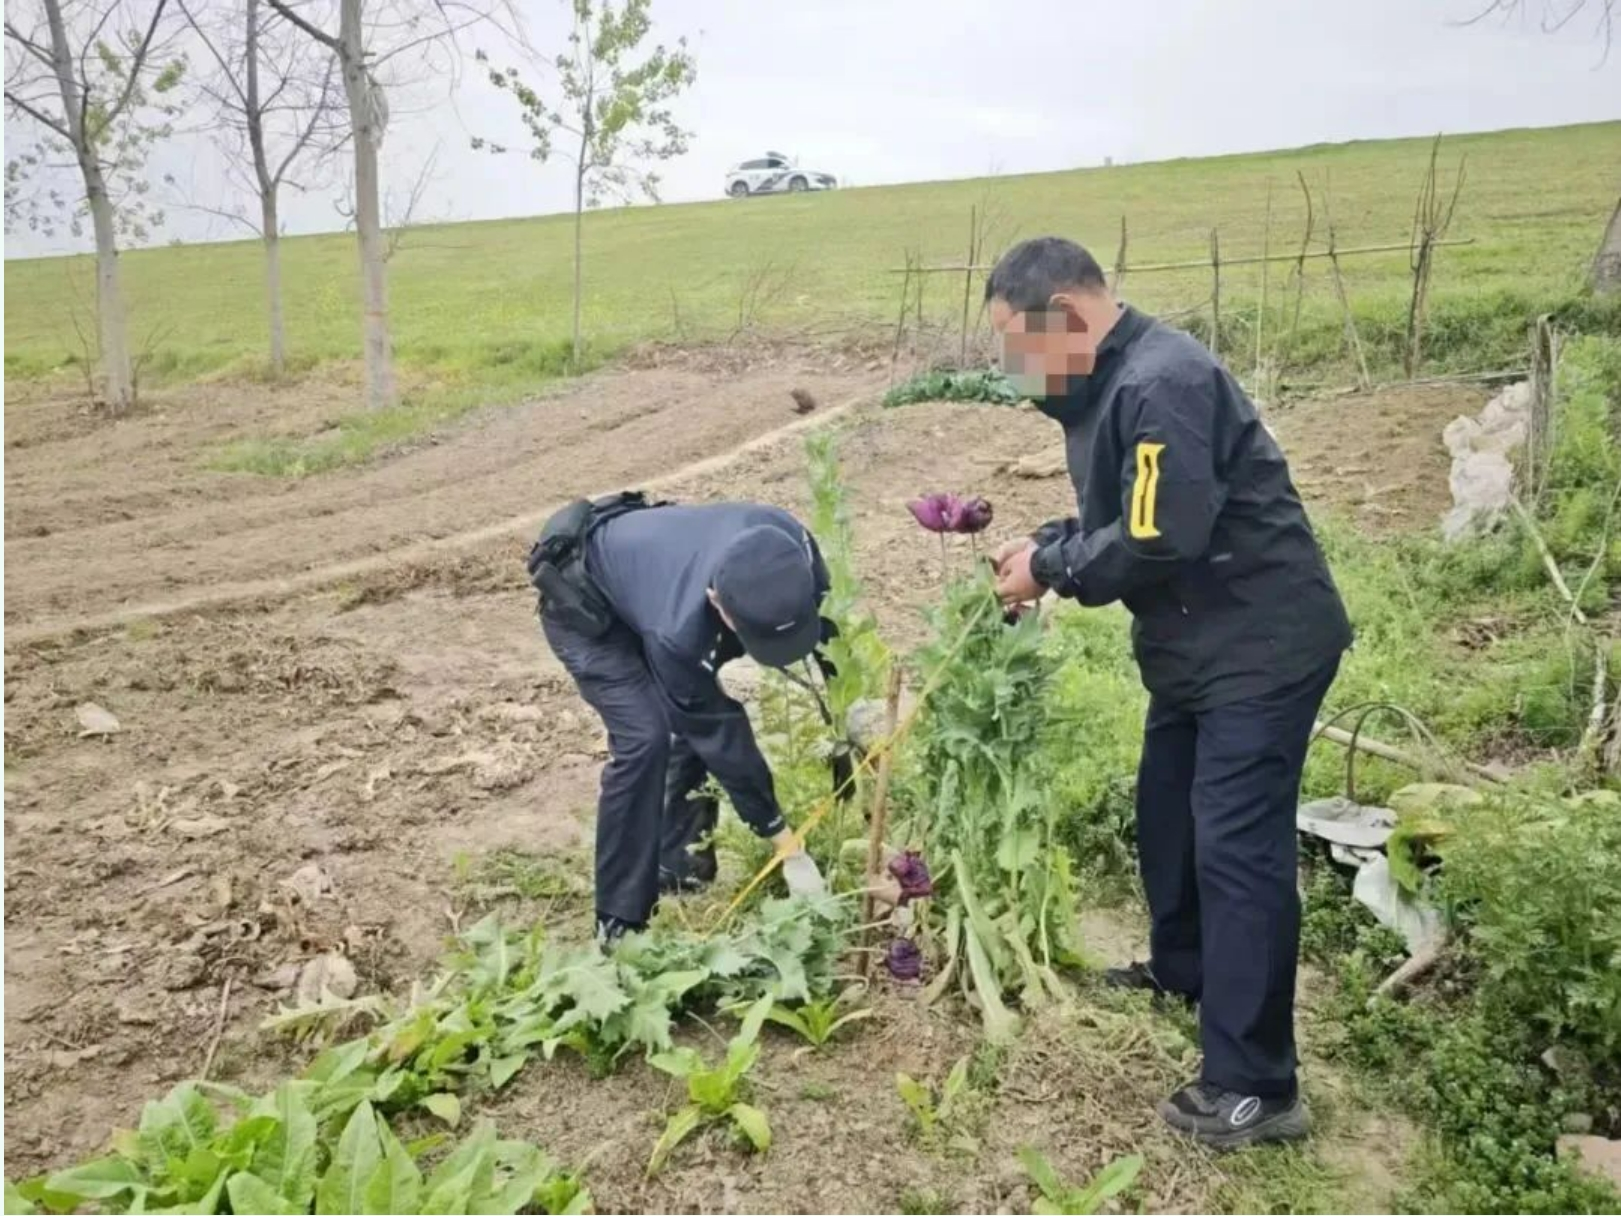Poppy: (846, 462, 1093, 1023), (462, 834, 940, 1084)
